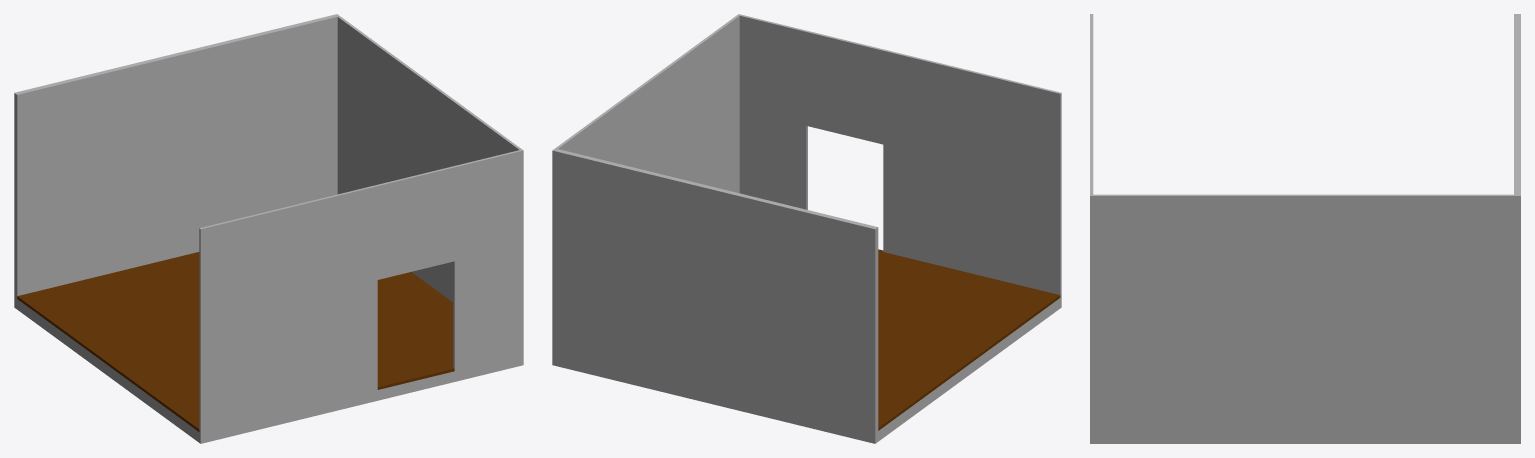
File: 4x2 third (1)-2.obj
The picture shows the model from 3 angles, left to right: view 1: azimuth 30°, elevation 25°; view 2: azimuth 150°, elevation 25°; view 3: azimuth 270°, elevation 25°; orthographic projection. The views are drawn at different scales.
Parts seen in each view (by area): view 1: 4x2 third (1)-2; view 2: 4x2 third (1)-2; view 3: 4x2 third (1)-2.
Boxes of the visible parts, box(x1,y1,x2,y2) form: 4x2 third (1)-2: box(14, 14, 523, 443); 4x2 third (1)-2: box(552, 14, 1061, 443); 4x2 third (1)-2: box(1090, 14, 1520, 443).
Bounding box in the file's own units: 126 × 80 × 126.
Materials: 1 (1 with a texture image).
